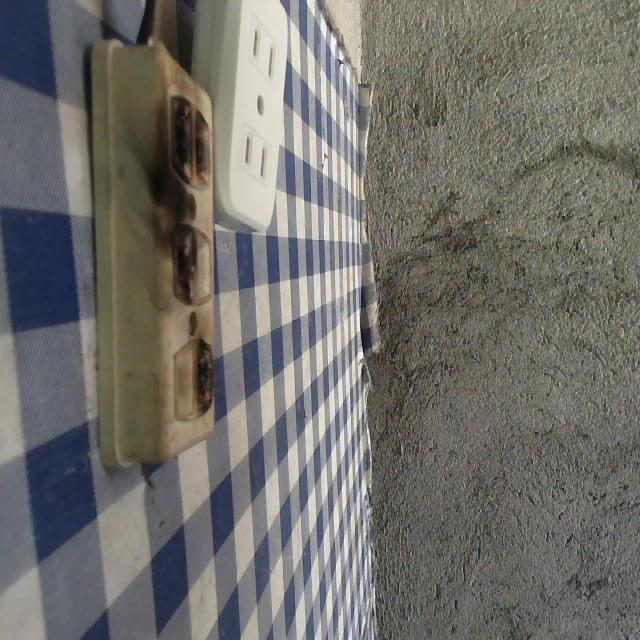-: (149, 79, 227, 196), (160, 204, 200, 311), (190, 337, 225, 412)
